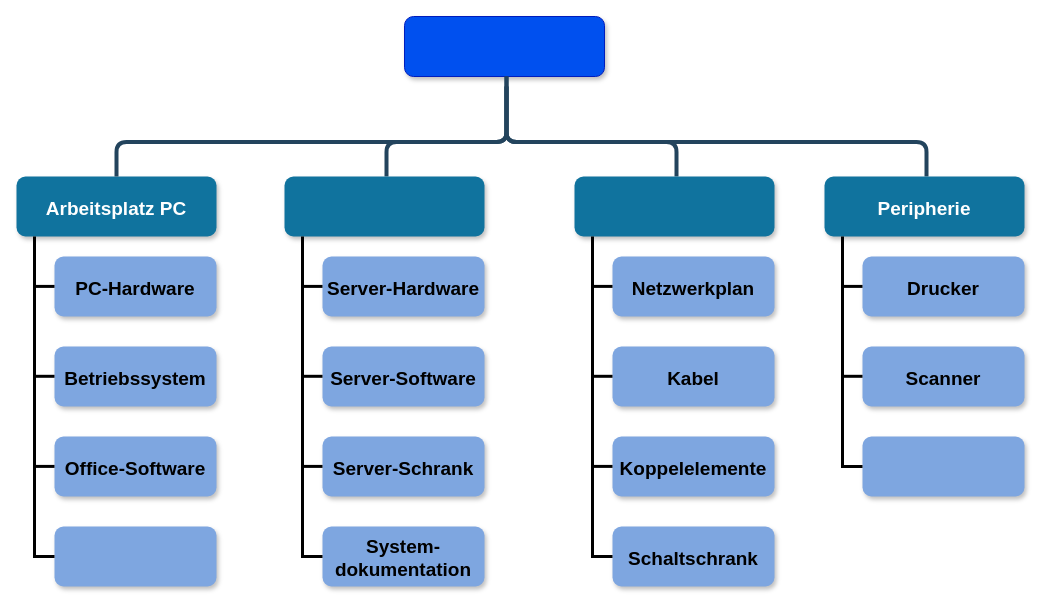
The diagram is 1041 pixels wide and 603 high, and some of its shapes have lost their labels. Each missing label, with the centre of its shape:
Backup: point 944,467
IT-Installation: point 505,48
Netzwerk: point 675,207
Server: point 385,207
Sonstige Software: point 136,557
